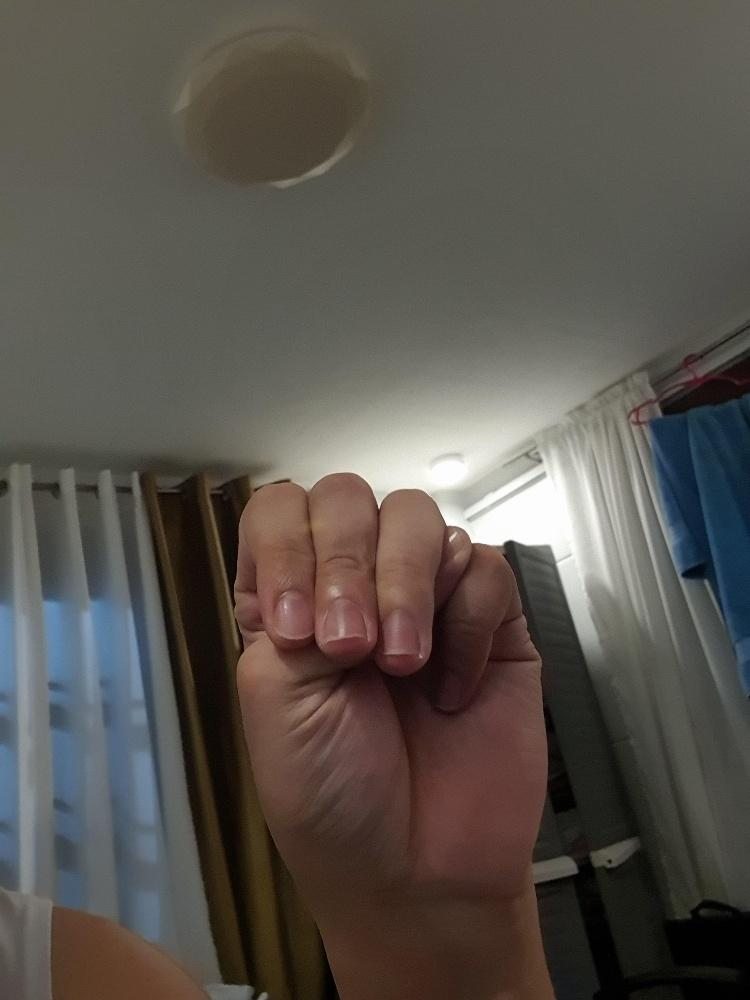m: (230, 466, 553, 907)
